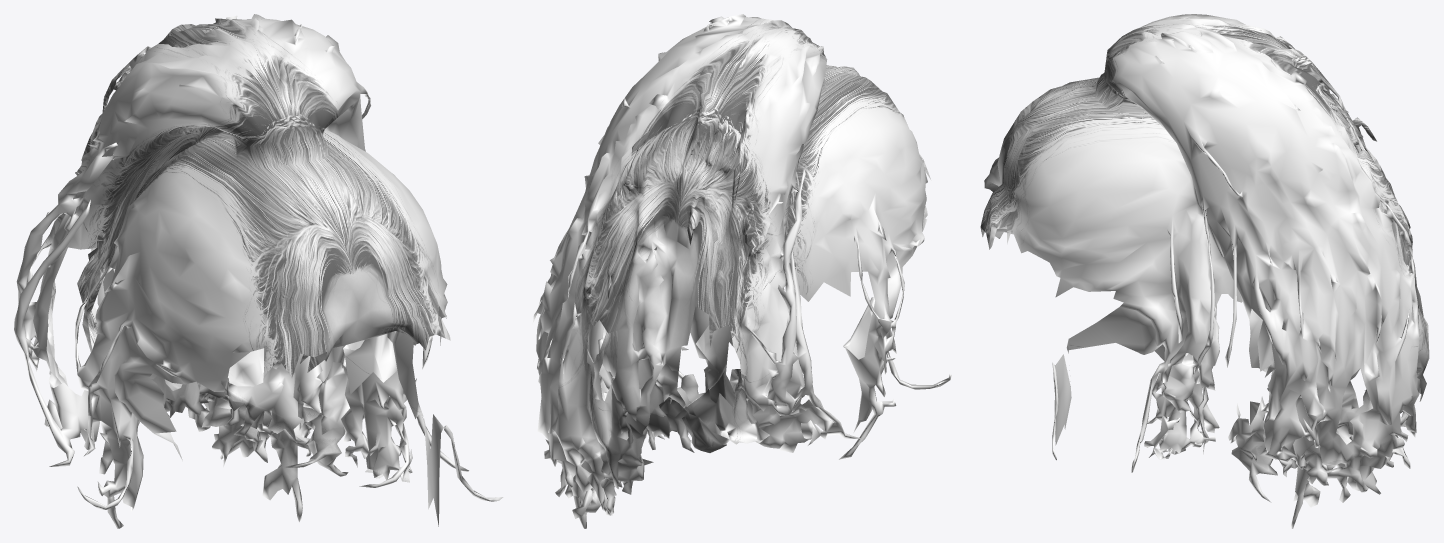
File: hair_pony.glb
3 renders of one model, left to right at view 1: azimuth 30°, elevation 25°; view 2: azimuth 150°, elevation 25°; view 3: azimuth 270°, elevation 25°, orthographic. The views are drawn at different scales.
Parts seen in each view (by area): view 1: hair; view 2: hair; view 3: hair.
Part boxes in pixels (x1,y1,x2,y2): hair: (14,14,503,528); hair: (532,14,951,528); hair: (980,14,1429,528).
Size of the model in its own units: 0.3091 by 0.427 by 0.375.
1 material, 1 textured.
